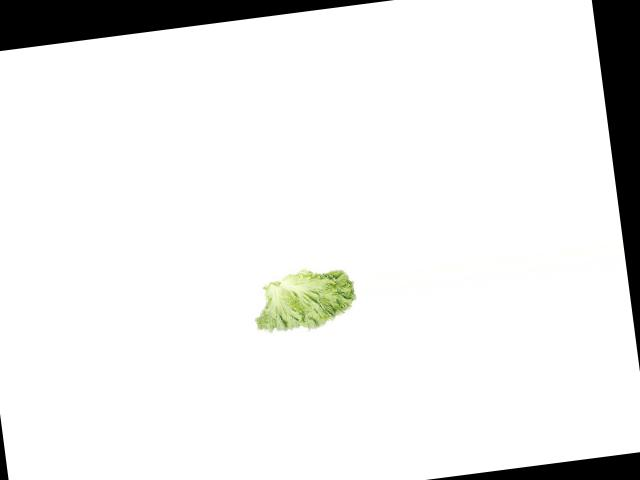lettuce: (249, 259, 361, 344)
